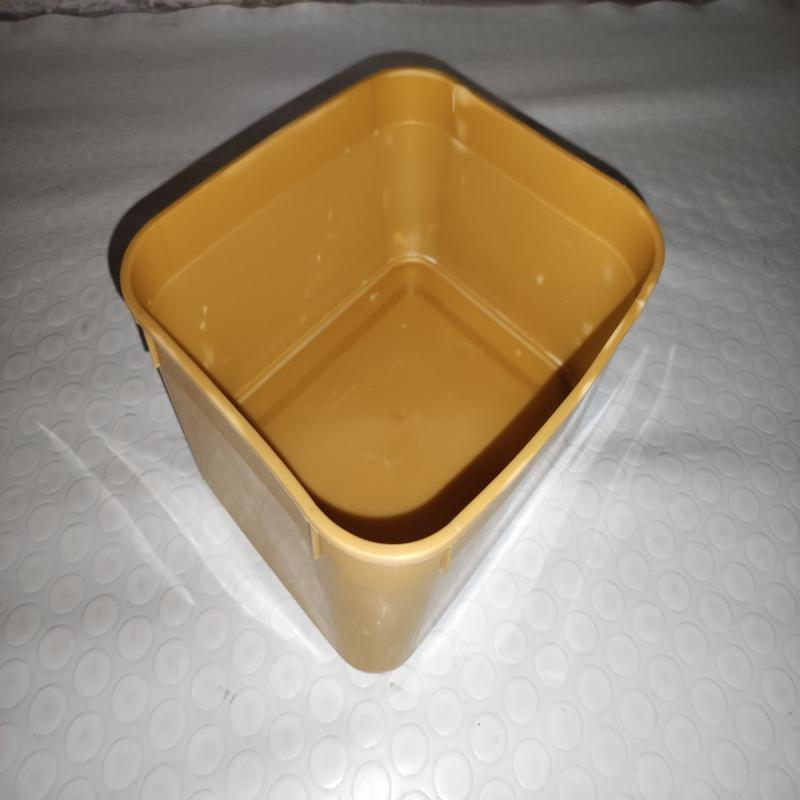plastic container: (107, 52, 668, 677)
